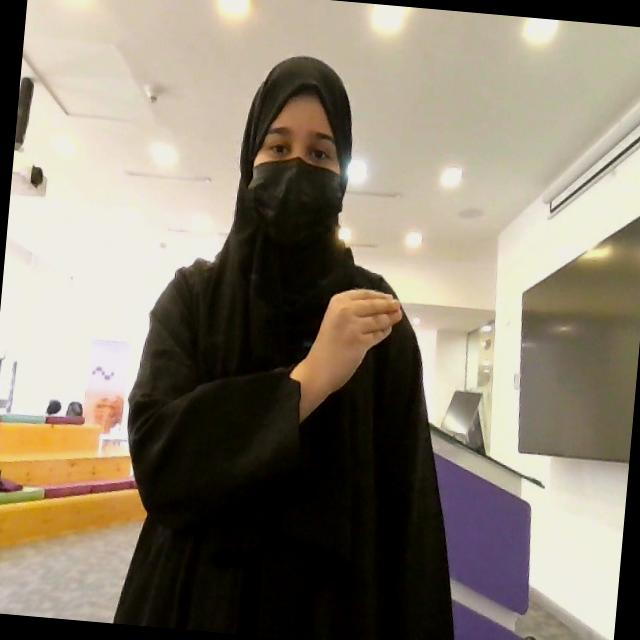result: (304, 282, 404, 399)
